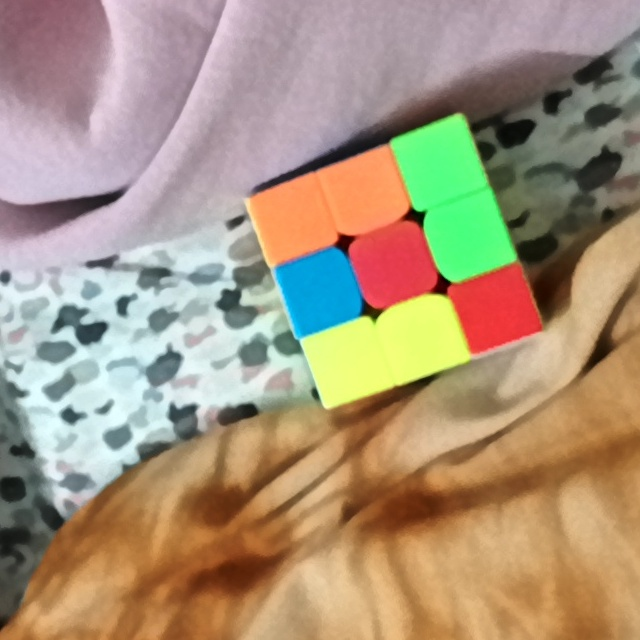tile: (409, 135, 470, 191), (336, 165, 395, 221), (263, 194, 323, 247), (442, 210, 498, 266), (395, 309, 449, 366), (293, 264, 347, 320), (366, 237, 421, 291), (321, 335, 375, 389), (468, 283, 524, 335)
